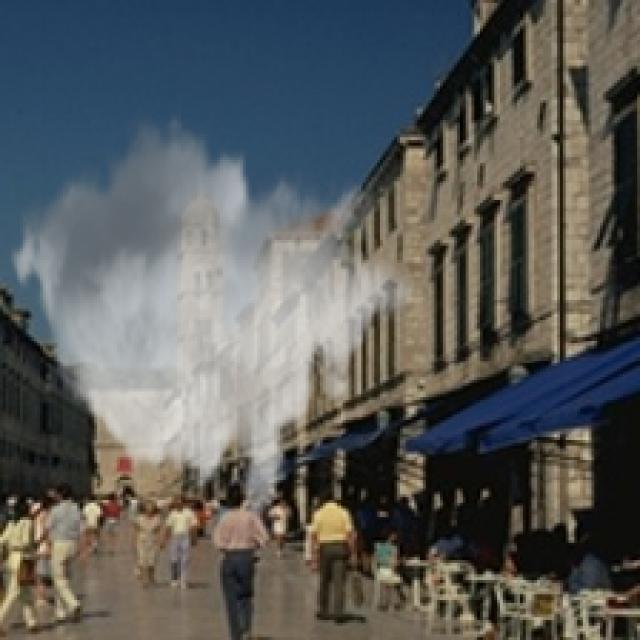Smoke: (9, 109, 418, 518)
